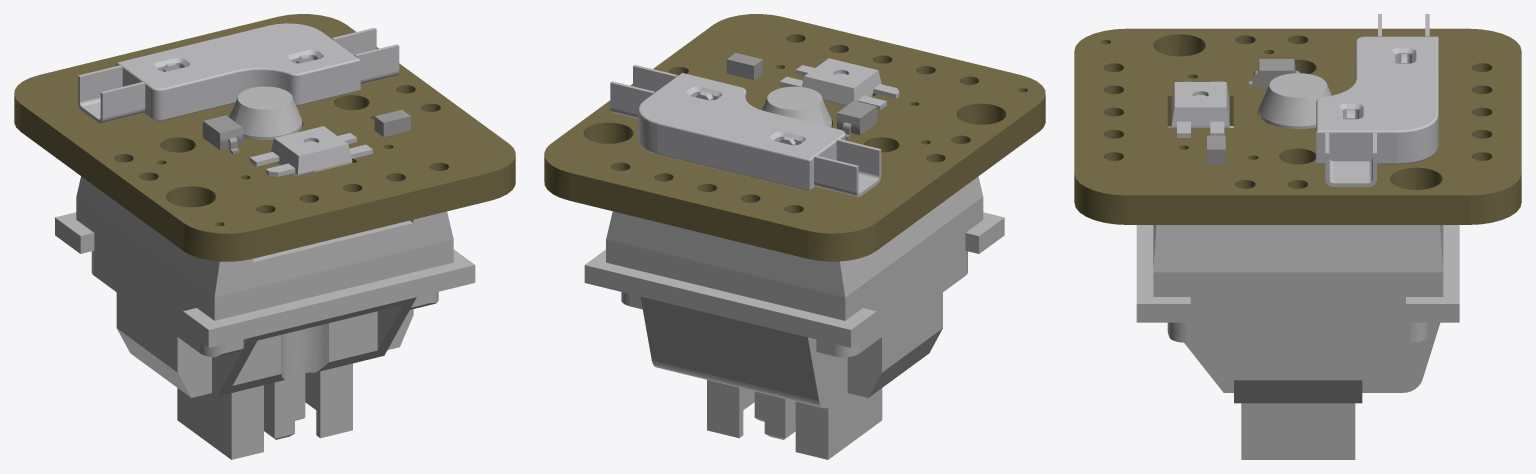
File: ada-4978.glb
3 renders of one model, left to right at view 1: azimuth 30°, elevation 25°; view 2: azimuth 150°, elevation 25°; view 3: azimuth 270°, elevation 25°, orthographic. The views are drawn at different scales.
Visible parts, largest first — view 1: 0.5_0.5_0.5_0.85, 0.16666666666666666_0.16666666666666666_0.08333333333333333_, 0.5833333333333334_0.5833333333333334_0.5833333333333334_0.8, 0.3333333333333333_0.3333333333333333_0.3333333333333333_0; view 2: 0.5_0.5_0.5_0.85, 0.16666666666666666_0.16666666666666666_0.08333333333333333_, 0.5833333333333334_0.5833333333333334_0.5833333333333334_0.8, 0.3333333333333333_0.3333333333333333_0.3333333333333333_0; view 3: 0.16666666666666666_0.16666666666666666_0.08333333333333333_, 0.5_0.5_0.5_0.85, 0.5833333333333334_0.5833333333333334_0.5833333333333334_0.8, 0.3333333333333333_0.3333333333333333_0.3333333333333333_0.
Part boxes in pixels (x1,y1,x2,y2): 0.5_0.5_0.5_0.85: [55, 86, 475, 459]; 0.16666666666666666_0.16666666666666666_0.08333333333333333_: [14, 14, 515, 261]; 0.5833333333333334_0.5833333333333334_0.5833333333333334_0.8: [78, 23, 399, 176]; 0.3333333333333333_0.3333333333333333_0.3333333333333333_0: [202, 109, 410, 154]; 0.5_0.5_0.5_0.85: [584, 86, 1004, 459]; 0.16666666666666666_0.16666666666666666_0.08333333333333333_: [544, 14, 1045, 261]; 0.5833333333333334_0.5833333333333334_0.5833333333333334_0.8: [610, 58, 899, 196]; 0.3333333333333333_0.3333333333333333_0.3333333333333333_0: [726, 53, 877, 139]; 0.16666666666666666_0.16666666666666666_0.08333333333333333_: [1074, 28, 1521, 224]; 0.5_0.5_0.5_0.85: [1136, 73, 1459, 459]; 0.5833333333333334_0.5833333333333334_0.5833333333333334_0.8: [1171, 14, 1438, 186]; 0.3333333333333333_0.3333333333333333_0.3333333333333333_0: [1207, 59, 1299, 164].
Bounding box in the file's own units: 1.9 × 1.87 × 2.16.
